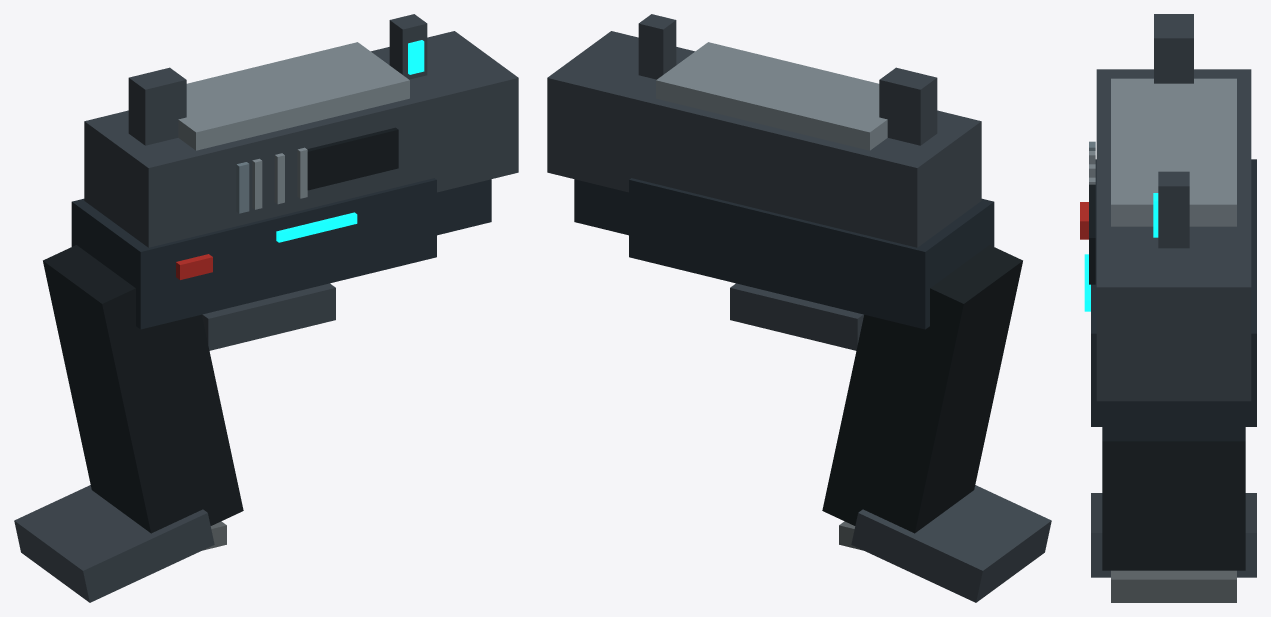
Rendered from pistol.glb.
3 views of the same model, side by side, from view 1: azimuth 30°, elevation 25°; view 2: azimuth 150°, elevation 25°; view 3: azimuth 270°, elevation 25° (orthographic). The views are drawn at different scales.
Visible parts, largest first — view 1: Pistol slide, Pistol grip, Frame, Slide top plane, Grip base, Trigger guard, Ejection port, Rear sight, Dust cover, Front sight, Power indicator, Safety (+1 smaller); view 2: Pistol slide, Pistol grip, Frame, Slide top plane, Grip base, Trigger guard, Rear sight, Dust cover, Front sight; view 3: Pistol slide, Pistol grip, Slide top plane, Dust cover, Magazine base, Frame, Rear sight, Front sight, Grip base, Ejection port, Power indicator, Safety (+1 smaller).
Part boxes in pixels (x1,y1,x2,y2): Pistol slide: (84, 31, 518, 247); Pistol grip: (43, 245, 243, 533); Frame: (71, 178, 436, 329); Slide top plane: (178, 42, 409, 150); Grip base: (14, 485, 214, 602); Trigger guard: (202, 283, 335, 350); Ejection port: (307, 127, 398, 190); Rear sight: (128, 67, 186, 145); Dust cover: (437, 179, 491, 235); Front sight: (389, 14, 427, 79); Power indicator: (276, 212, 357, 242); Safety: (176, 254, 212, 279); Pistol slide: (547, 31, 981, 247); Pistol grip: (822, 245, 1022, 533); Frame: (629, 178, 994, 329); Slide top plane: (656, 42, 887, 150); Grip base: (851, 485, 1051, 602); Trigger guard: (730, 283, 863, 350); Rear sight: (879, 67, 937, 145); Dust cover: (574, 179, 628, 235); Front sight: (638, 14, 676, 79); Pistol slide: (1096, 69, 1251, 401); Pistol grip: (1102, 441, 1245, 570); Slide top plane: (1111, 78, 1236, 226); Dust cover: (1102, 401, 1245, 441); Magazine base: (1111, 570, 1236, 602); Frame: (1091, 159, 1256, 426); Rear sight: (1154, 14, 1193, 83); Front sight: (1158, 171, 1189, 248); Grip base: (1091, 493, 1256, 577); Ejection port: (1089, 184, 1095, 284); Power indicator: (1084, 254, 1090, 311); Safety: (1080, 202, 1088, 239).
Size of the model in its own units: 2.13 by 2.2 by 0.618.
